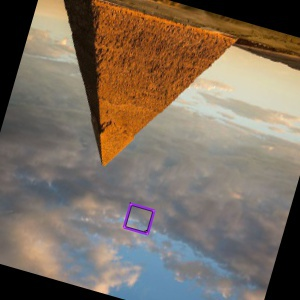square: (120, 197, 157, 239)
